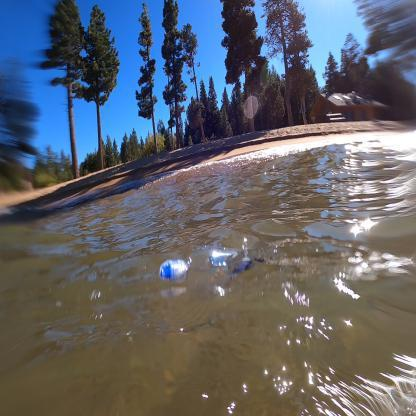Rác: (143, 223, 319, 313)
